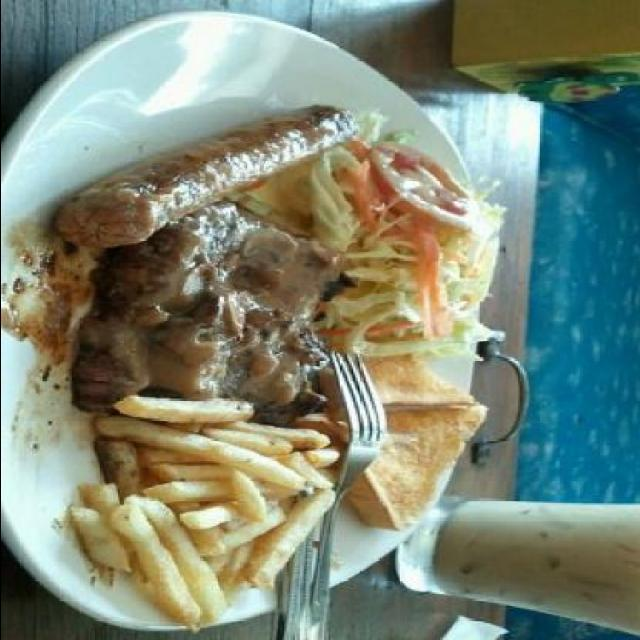French fries: (58, 410, 340, 621)
Steak: (68, 214, 344, 403), (69, 100, 362, 242)
